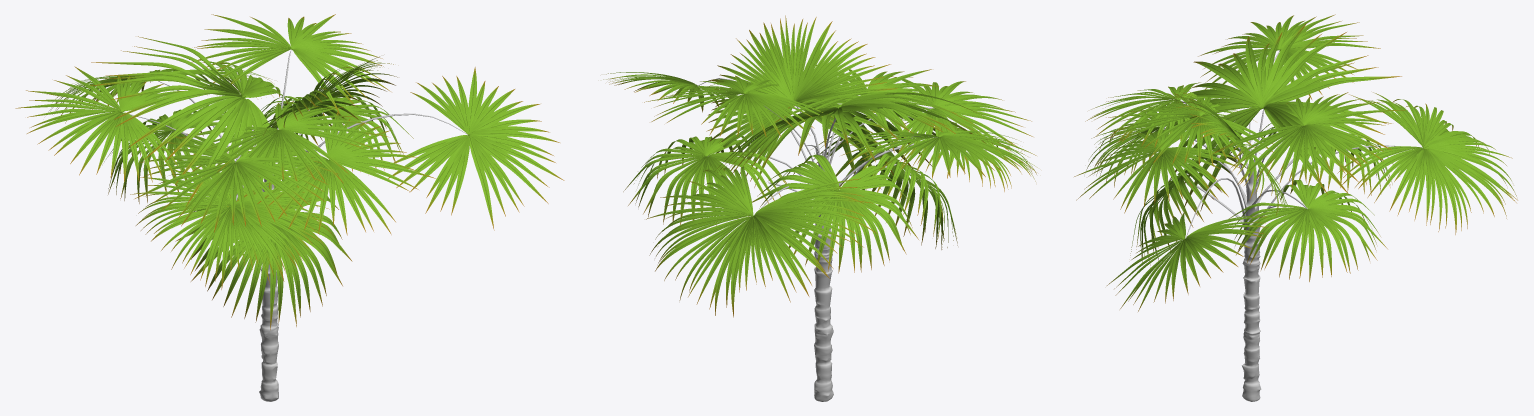
The picture shows the model from 3 angles, left to right: view 1: azimuth 30°, elevation 25°; view 2: azimuth 150°, elevation 25°; view 3: azimuth 270°, elevation 25°; orthographic projection. The views are drawn at different scales.
Visible parts, largest first — view 1: Leaves, TrunkandBranches; view 2: Leaves, TrunkandBranches; view 3: Leaves, TrunkandBranches.
Boxes of the visible parts, bbox=[...] form: Leaves: bbox=[15, 14, 564, 329]; TrunkandBranches: bbox=[129, 50, 467, 401]; Leaves: bbox=[603, 15, 1037, 317]; TrunkandBranches: bbox=[697, 78, 937, 401]; Leaves: bbox=[1074, 14, 1517, 311]; TrunkandBranches: bbox=[1164, 51, 1400, 401].
Size of the model in its own units: 125 by 88.52 by 110.
